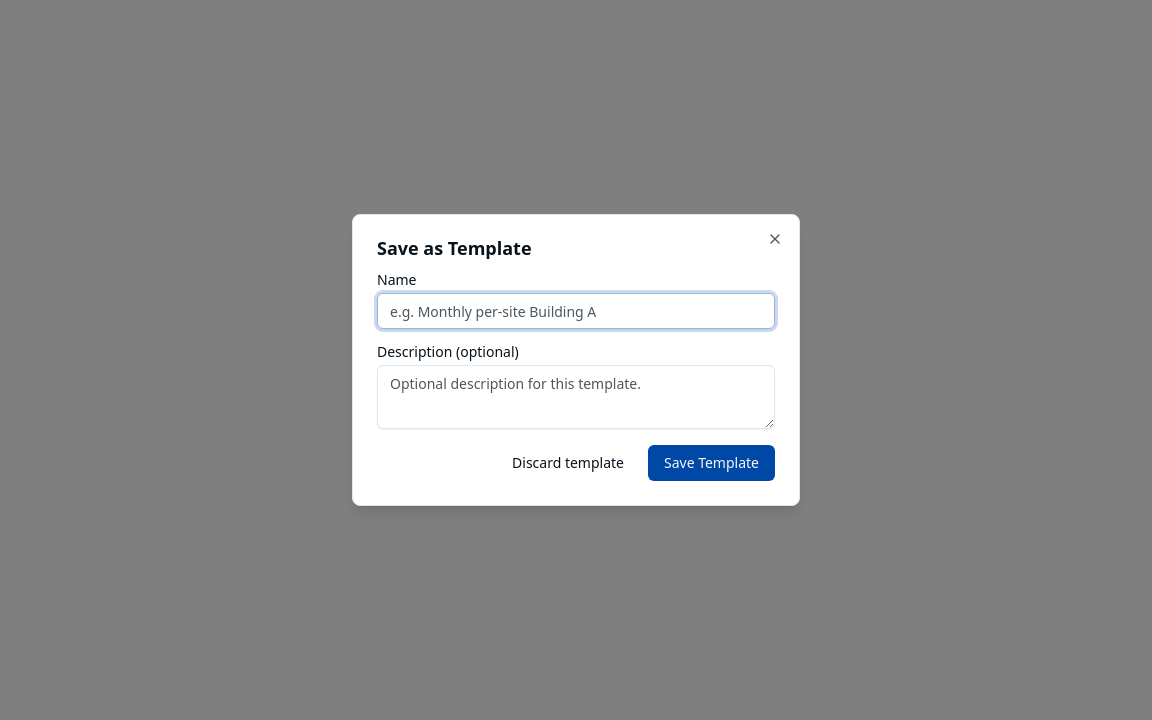
SaveTemplateDialog › shows "A template with this name already exists." on 409
The width and height of the screenshot is (1152, 720).
Expected: the heading "Save as Template" is shown, [377,236,532,260]
Note: Enter a name and submit
Type "Existing Template" into the field labelled "Name" at (576, 311), box [377,293,775,329]
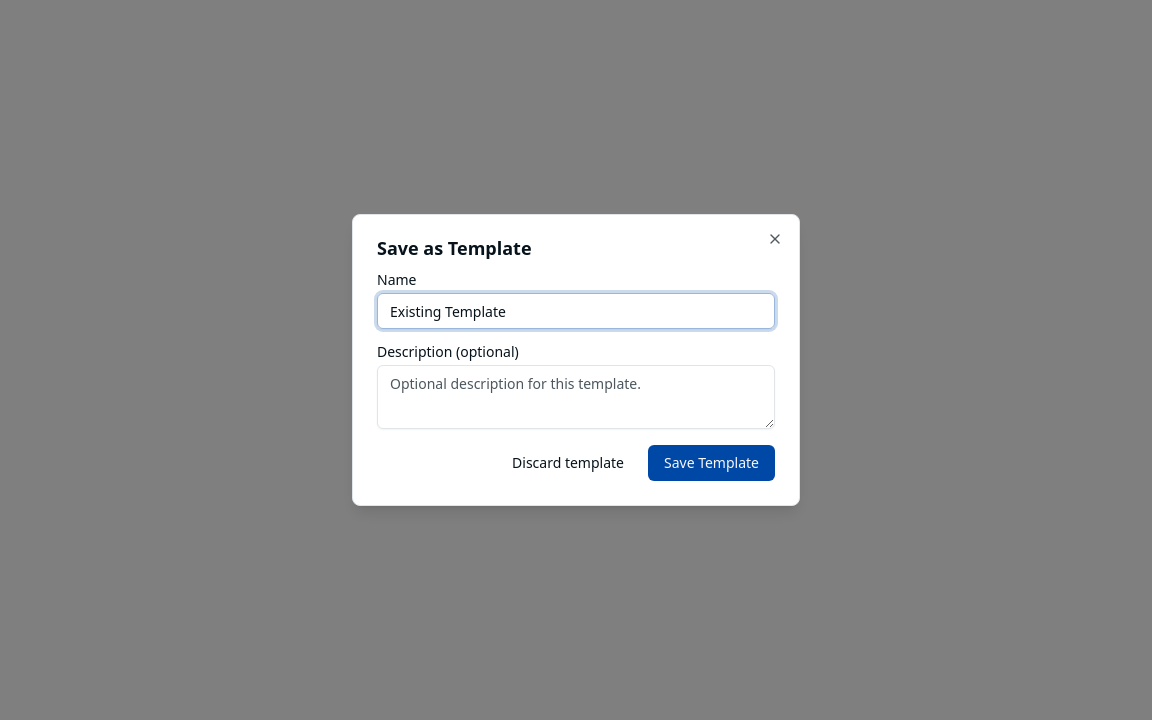
Click the button "Save Template" at (712, 463), box [648,445,775,481]
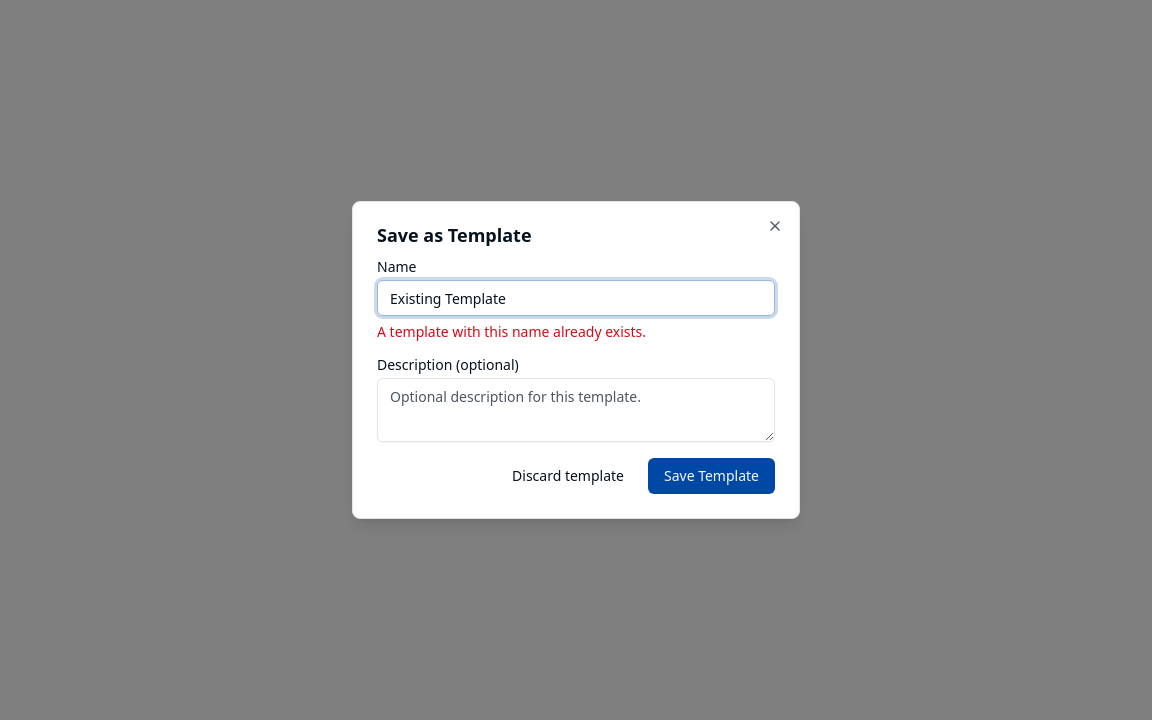
Result: the text "A template with this name already exists." is shown at [377,322,646,341]
